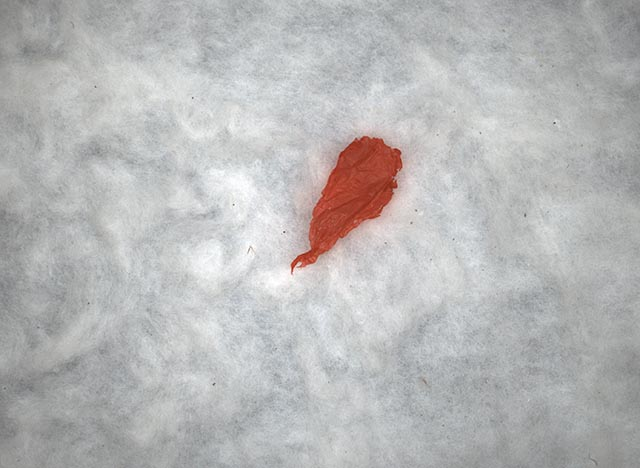plastic film: (290, 135, 404, 277)
